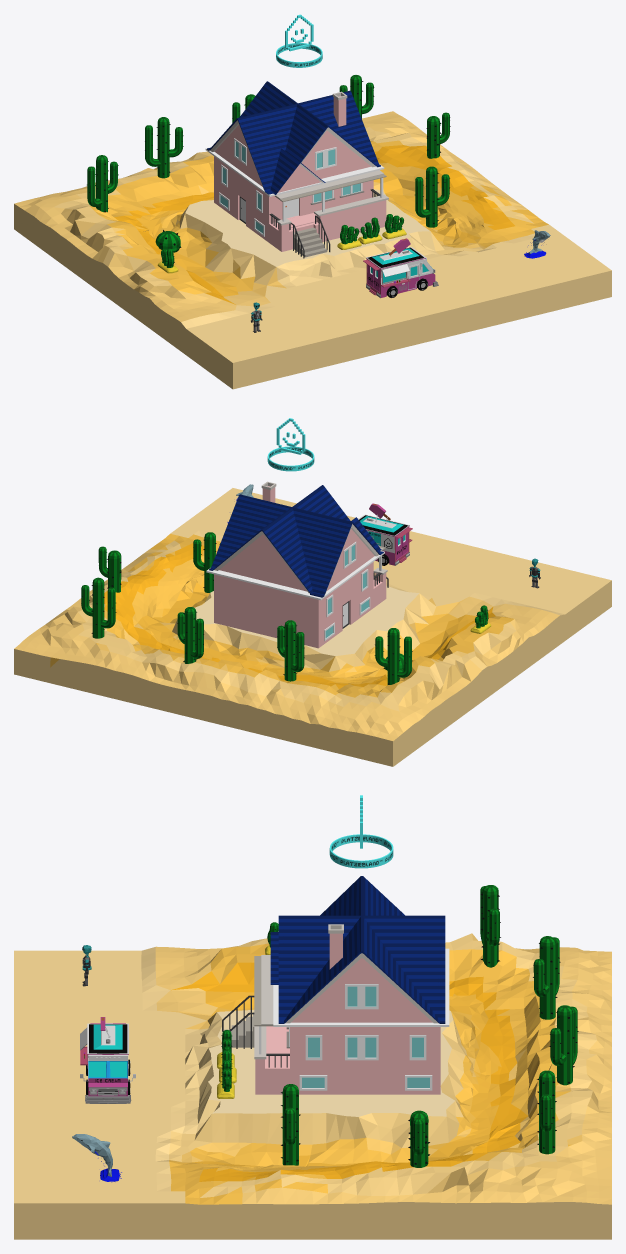
3 renders of one model, top to bottom at view 1: azimuth 30°, elevation 25°; view 2: azimuth 150°, elevation 25°; view 3: azimuth 270°, elevation 25°, orthographic. The views are drawn at different scales.
Visible parts, largest first — view 1: Cube.001, Cube.313, VEHICLES_ICE_CREAM_TRUCK, Cylinder.044, Cylinder.037, Cylinder.045, TYPE_PREMIUM, Cylinder.038, Cylinder.042; view 2: Cube.001, Cube.313, VEHICLES_ICE_CREAM_TRUCK, Cylinder.042, Cylinder.045, Cylinder.044, Cylinder.043, TYPE_PREMIUM, Cylinder.037, Cylinder.038; view 3: Cube.001, Cube.313, VEHICLES_ICE_CREAM_TRUCK, Cylinder.044, Cylinder.043, Cylinder.045, Cylinder.042, Cylinder.037, TYPE_PREMIUM, Cylinder.038, ANIMAL_DELFIN.
Part boxes in pixels (<box>): Cube.001: <box>14,111,611,389</box>; Cube.313: <box>205,81,388,258</box>; VEHICLES_ICE_CREAM_TRUCK: <box>363,238,438,298</box>; Cylinder.044: <box>145,117,183,178</box>; Cylinder.037: <box>415,166,449,227</box>; Cylinder.045: <box>87,155,118,212</box>; TYPE_PREMIUM: <box>276,14,322,67</box>; Cylinder.038: <box>426,112,450,158</box>; Cylinder.042: <box>339,75,374,118</box>; Cube.001: <box>14,488,611,766</box>; Cube.313: <box>206,481,388,648</box>; VEHICLES_ICE_CREAM_TRUCK: <box>358,503,412,565</box>; Cylinder.042: <box>81,577,116,638</box>; Cylinder.045: <box>374,628,412,684</box>; Cylinder.044: <box>277,620,304,681</box>; Cylinder.043: <box>177,607,203,663</box>; TYPE_PREMIUM: <box>267,418,314,471</box>; Cylinder.037: <box>193,532,220,592</box>; Cylinder.038: <box>98,546,121,592</box>; Cube.001: <box>14,933,611,1239</box>; Cube.313: <box>222,876,449,1094</box>; VEHICLES_ICE_CREAM_TRUCK: <box>80,1017,135,1103</box>; Cylinder.044: <box>533,936,560,1019</box>; Cylinder.043: <box>549,1005,578,1085</box>; Cylinder.045: <box>480,885,500,967</box>; Cylinder.042: <box>537,1070,556,1154</box>; Cylinder.037: <box>281,1084,300,1165</box>; TYPE_PREMIUM: <box>329,795,393,868</box>; Cylinder.038: <box>408,1110,429,1167</box>; ANIMAL_DELFIN: <box>72,1134,121,1182</box>.
Bounding box in the file's own units: 4002 × 2387 × 4001.
Materials: 43 (4 with a texture image).
